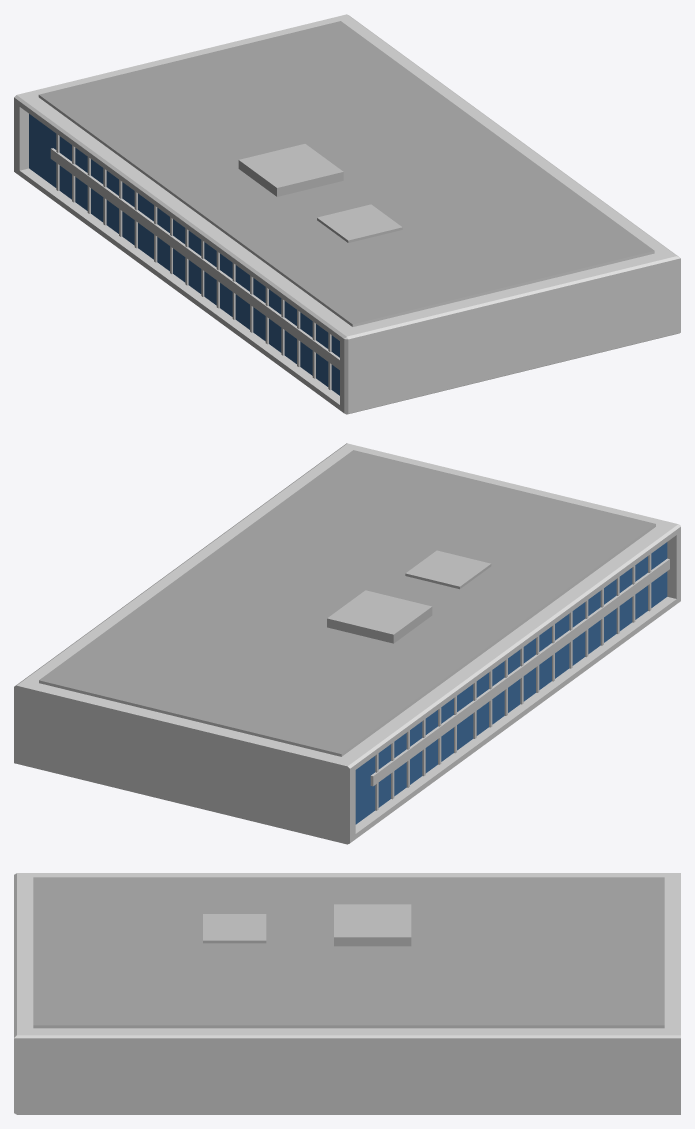
The model's file is Side2.fbx.
3 renders of one model, top to bottom at view 1: azimuth 30°, elevation 25°; view 2: azimuth 150°, elevation 25°; view 3: azimuth 270°, elevation 25°, orthographic.
Visible parts, largest first — view 1: Cube.013; view 2: Cube.013; view 3: Cube.013.
Boxes of the visible parts, <box> form: Cube.013: <box>14,14,680,414</box>; Cube.013: <box>14,443,680,844</box>; Cube.013: <box>14,873,680,1114</box>.
Bounding box in the file's own units: 646 × 165 × 1106.
